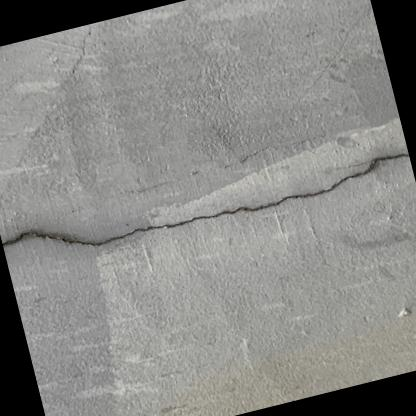crack: (1, 149, 410, 251)
